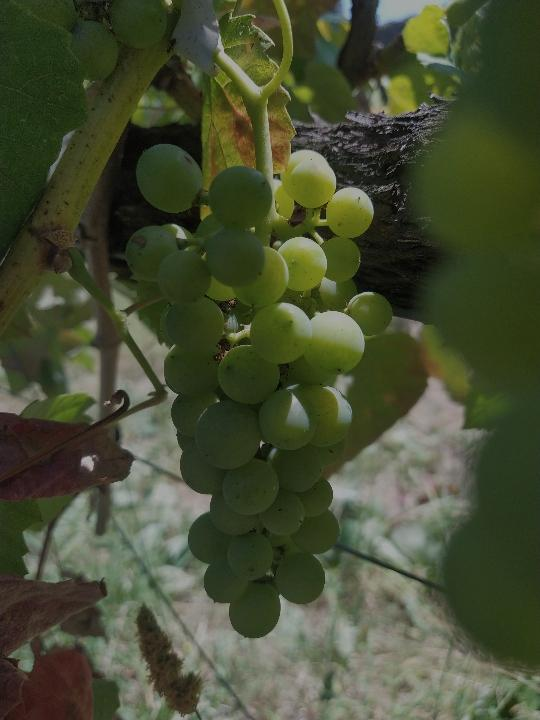grape: (122, 139, 395, 641)
